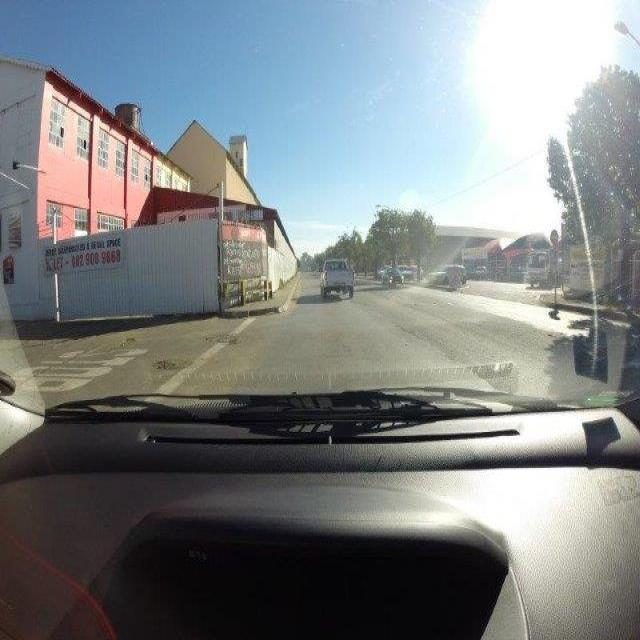jalan retak: (392, 317, 453, 356)
lubang: (203, 329, 243, 351), (150, 360, 191, 372), (118, 333, 140, 351)
